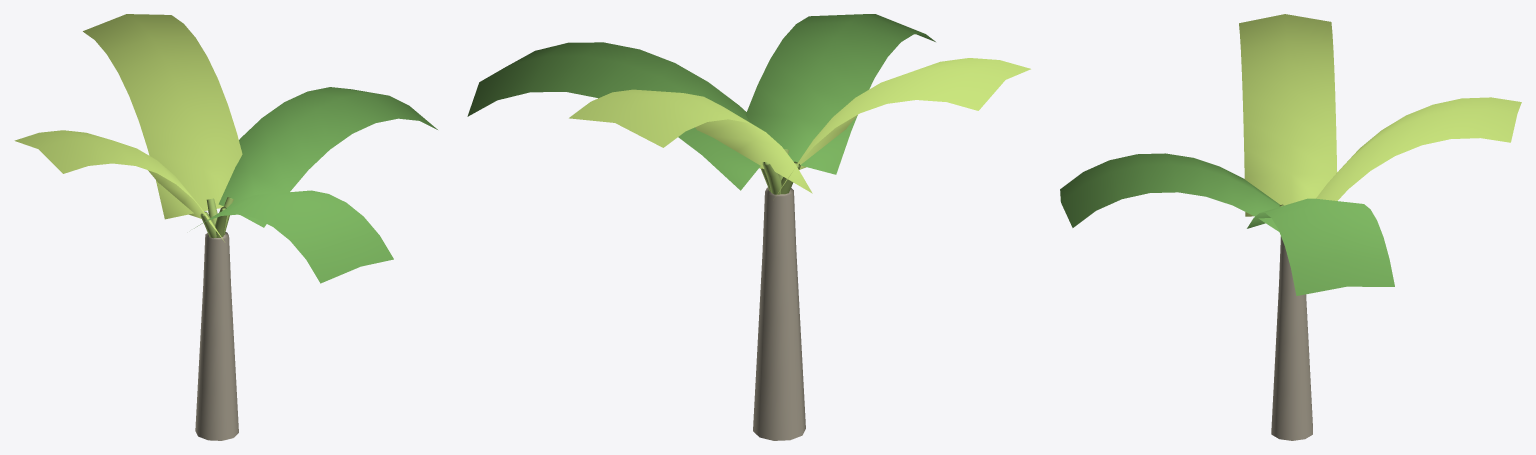
Rendered from plant_broadleaf_2.glb.
The picture shows the model from 3 angles, left to right: view 1: azimuth 30°, elevation 25°; view 2: azimuth 150°, elevation 25°; view 3: azimuth 270°, elevation 25°; orthographic projection. The views are drawn at different scales.
Parts seen in each view (by area): view 1: plant_broadleaf_2; view 2: plant_broadleaf_2; view 3: plant_broadleaf_2.
Boxes of the visible parts, bbox=[...] form: plant_broadleaf_2: bbox=[14, 14, 437, 440]; plant_broadleaf_2: bbox=[467, 14, 1030, 440]; plant_broadleaf_2: bbox=[1060, 14, 1521, 440].
Bounding box in the file's own units: 3.53 × 2.76 × 3.48.
